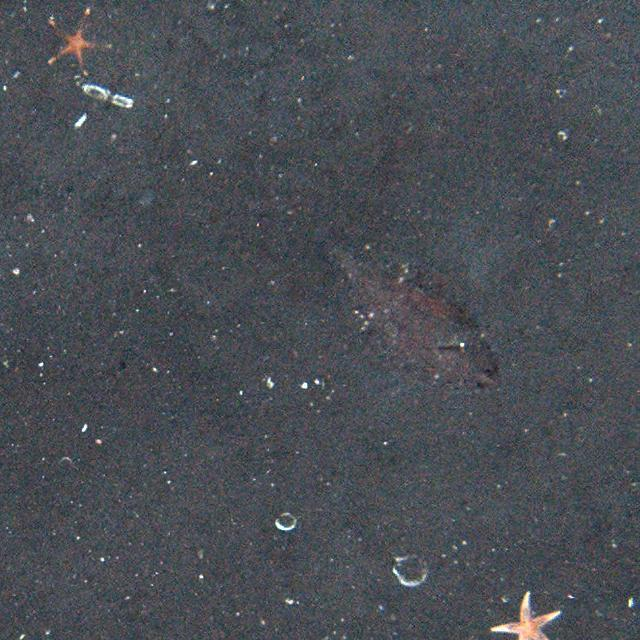flatfish: (310, 216, 508, 398)
